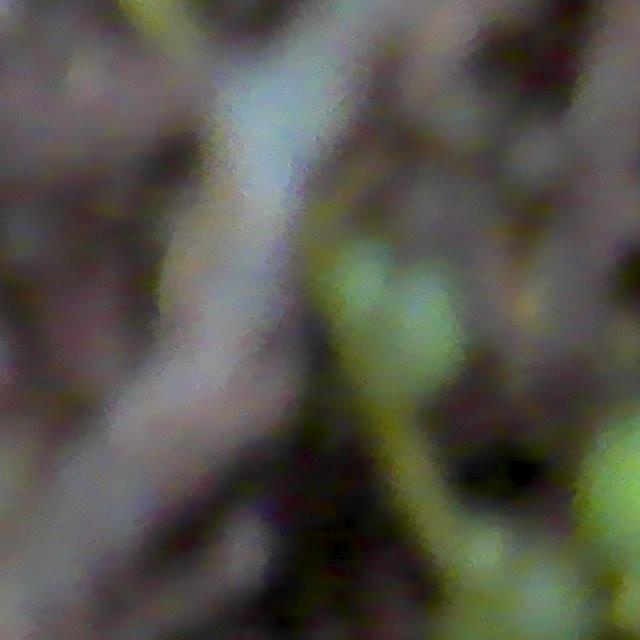SeaGrape: (378, 274, 473, 390), (495, 548, 595, 640), (310, 234, 403, 330), (438, 515, 519, 598)
